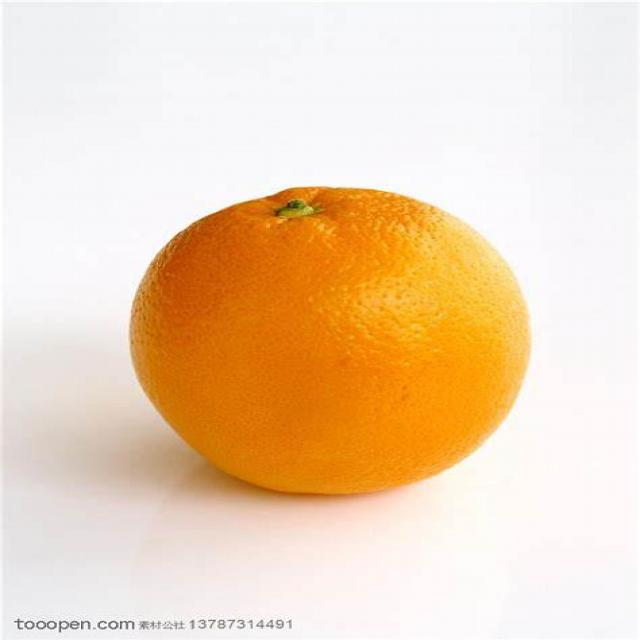Orange: (143, 181, 536, 494)
